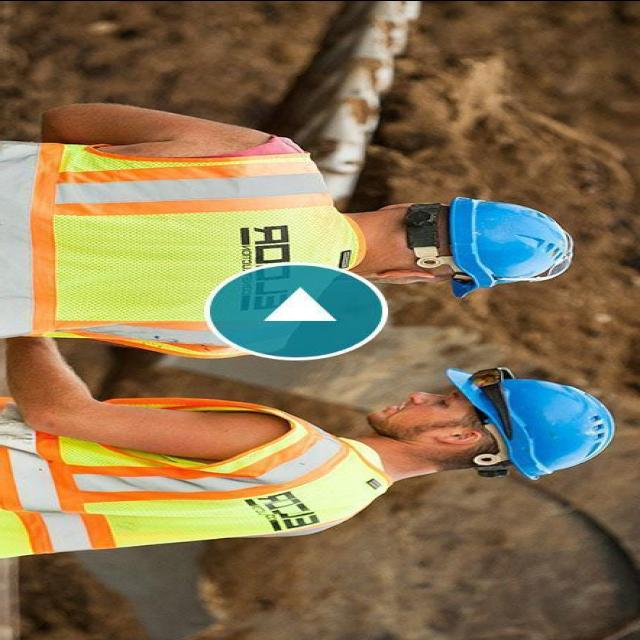helmet: (445, 362, 630, 490), (442, 192, 586, 302)
